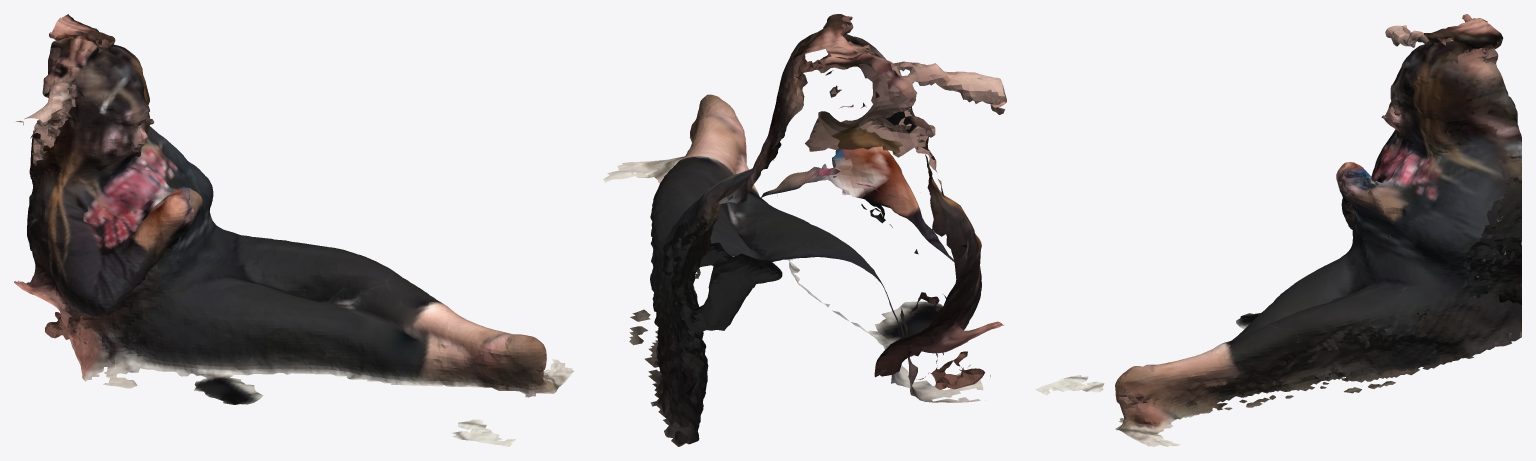
3 renders of one model, left to right at view 1: azimuth 30°, elevation 25°; view 2: azimuth 150°, elevation 25°; view 3: azimuth 270°, elevation 25°, orthographic. The views are drawn at different scales.
Size of the model in its own units: 1.1 by 0.7476 by 1.19.
Materials: 1 (1 with a texture image).
